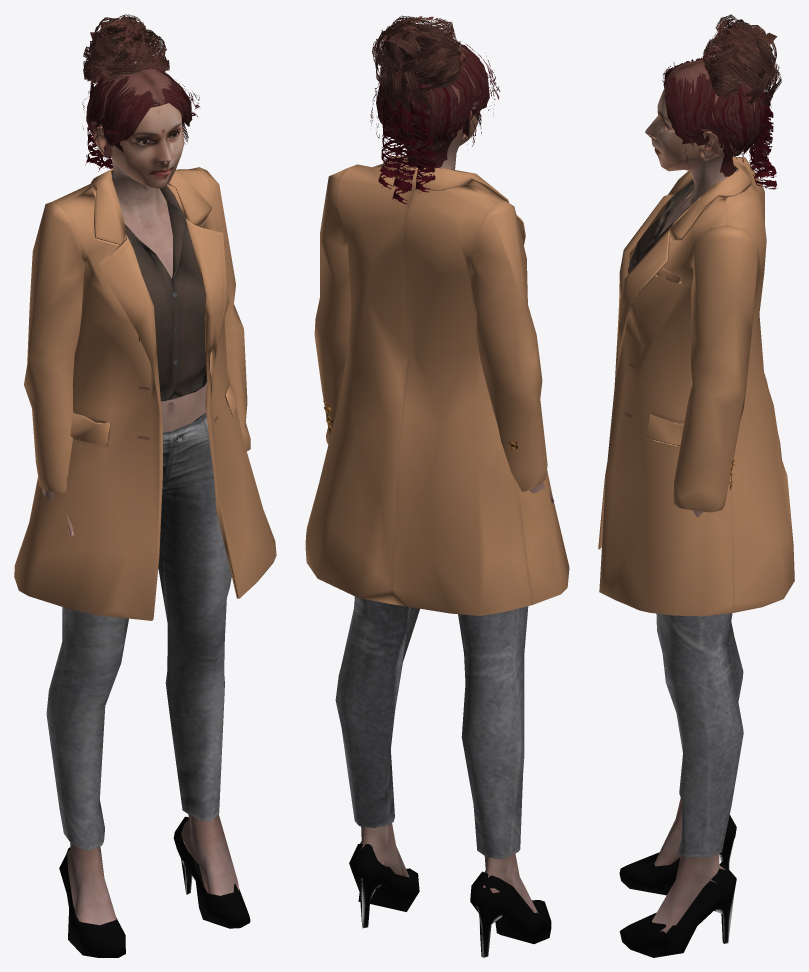
The model's file is woman_coat_stand.glb.
3 views of the same model, side by side, from view 1: azimuth 30°, elevation 25°; view 2: azimuth 150°, elevation 25°; view 3: azimuth 270°, elevation 25° (orthographic). The views are drawn at different scales.
Parts seen in each view (by area): view 1: geometry_0; view 2: geometry_0; view 3: geometry_0.
Boxes of the visible parts, left/top/right/bottom form: geometry_0: left=14, top=14, right=276, bottom=957; geometry_0: left=305, top=15, right=569, bottom=957; geometry_0: left=598, top=14, right=794, bottom=957.
Bounding box in the file's own units: 0.4654 × 1.62 × 0.3235.
Materials: 1 (1 with a texture image).
